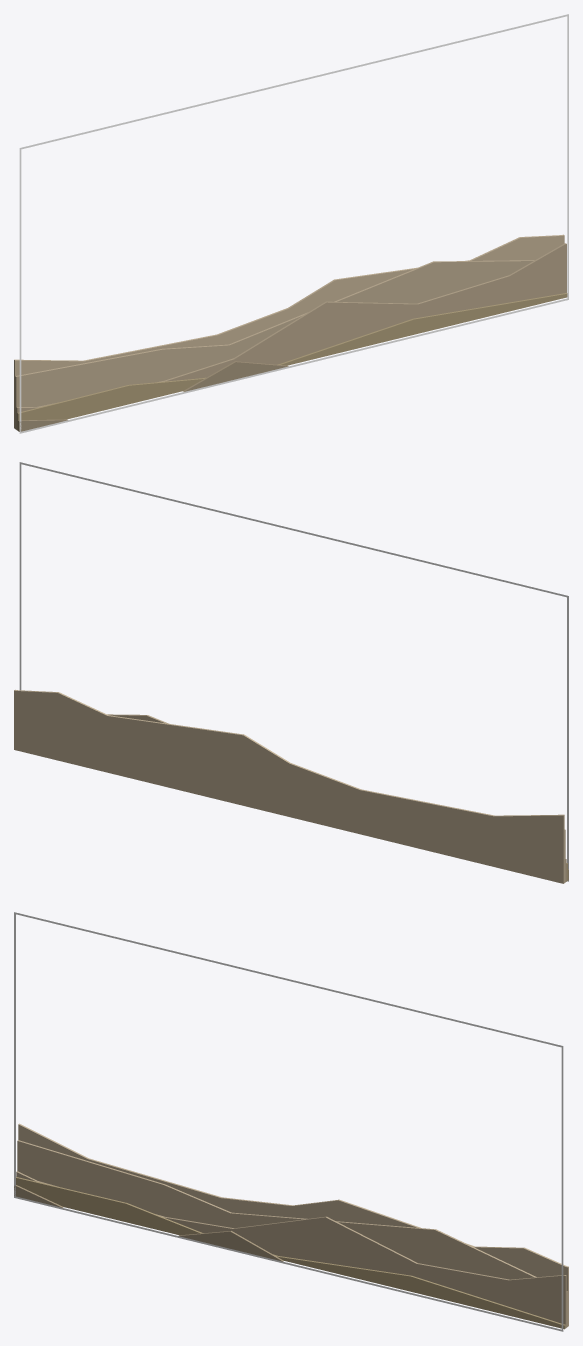
The model's file is test_frame.glb.
The picture shows the model from 3 angles, top to bottom: view 1: azimuth 30°, elevation 25°; view 2: azimuth 150°, elevation 25°; view 3: azimuth 330°, elevation 25°; orthographic projection.
Parts seen in each view (by area): view 1: Example1; view 2: Example1; view 3: Example1.
Boxes of the visible parts, x1,y1,x2,y2 form: Example1: (14, 14, 568, 433); Example1: (14, 462, 568, 883); Example1: (14, 912, 568, 1331).
Size of the model in its own units: 2.92 by 1.45 by 0.05.
